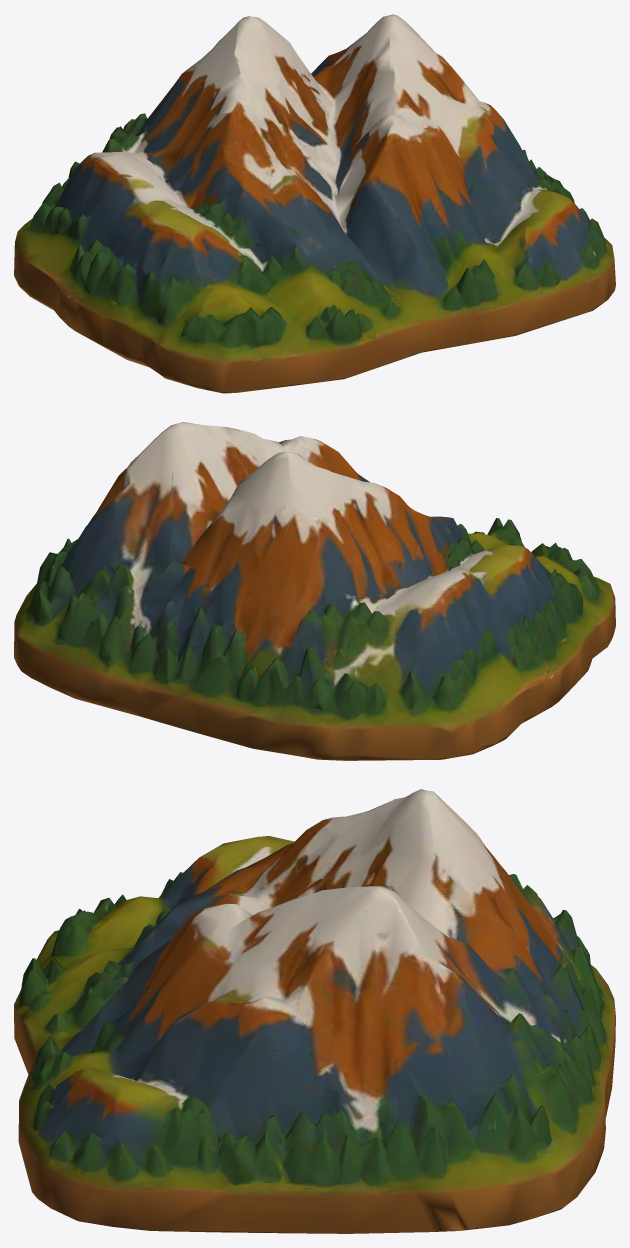
The model's file is bisalta.glb.
3 renders of one model, top to bottom at view 1: azimuth 30°, elevation 25°; view 2: azimuth 150°, elevation 25°; view 3: azimuth 270°, elevation 25°, orthographic. The views are drawn at different scales.
Visible parts, largest first — view 1: textured_mesh.obj; view 2: textured_mesh.obj; view 3: textured_mesh.obj.
Part boxes in pixels (x1,y1,x2,y2): textured_mesh.obj: (14,14,615,393); textured_mesh.obj: (14,422,615,760); textured_mesh.obj: (14,789,615,1233).
Bounding box in the file's own units: 2.15 × 0.9998 × 1.87.
Materials: 1 (1 with a texture image).
